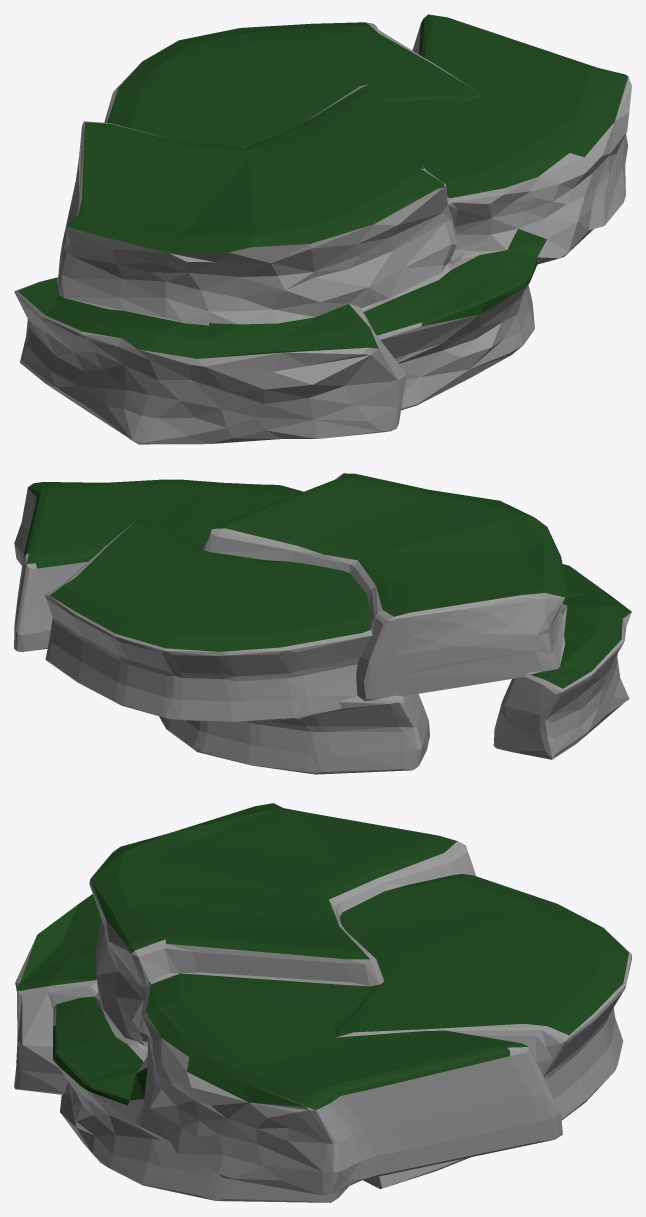
Rendered from Cliff_5.FBX.
The picture shows the model from 3 angles, top to bottom: view 1: azimuth 30°, elevation 25°; view 2: azimuth 150°, elevation 25°; view 3: azimuth 270°, elevation 25°; orthographic projection. The views are drawn at different scales.
Visible parts, largest first — view 1: Group57060; view 2: Group57060; view 3: Group57060.
Boxes of the visible parts, x1=… form: Group57060: x1=14, y1=14, x2=631, y2=444; Group57060: x1=14, y1=473, x2=631, y2=774; Group57060: x1=14, y1=803, x2=631, y2=1202.
Bounding box in the file's own units: 1069 × 333 × 873.
